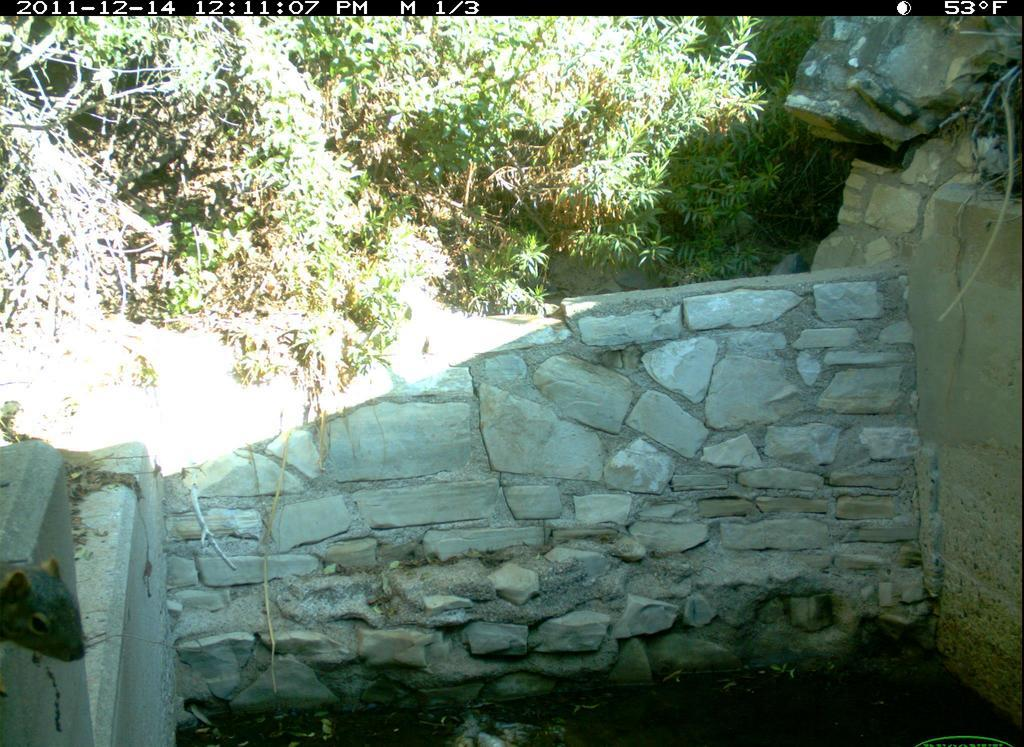squirrel: (1, 551, 99, 668)
